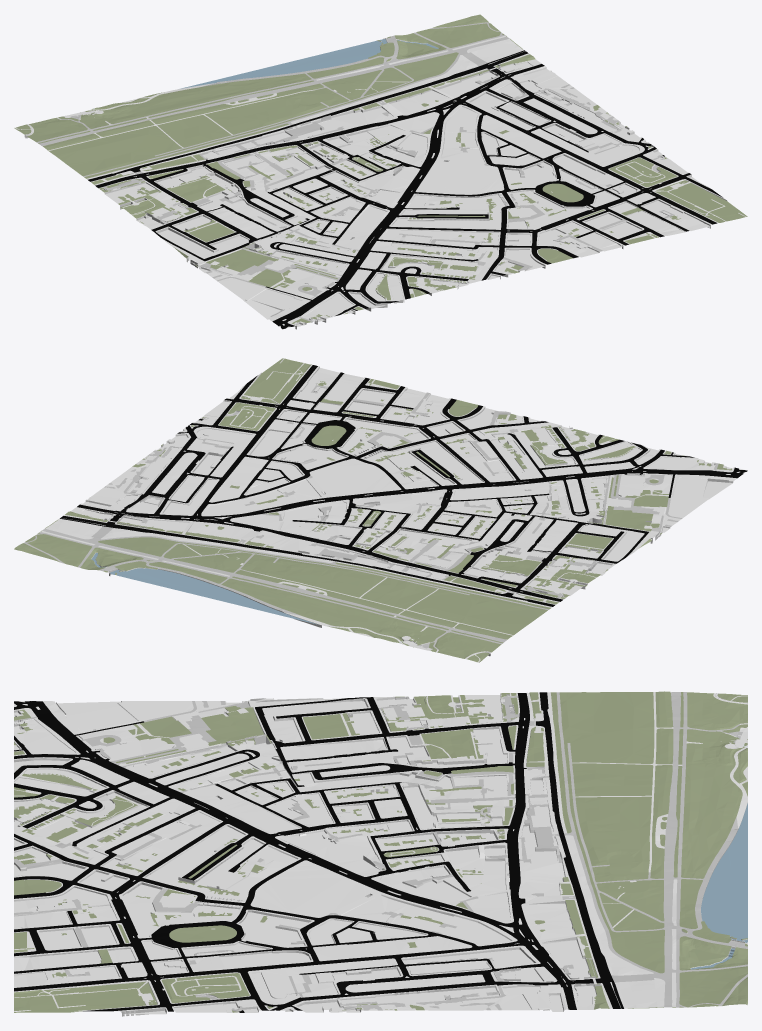
File: TQ2779_Terrain_LOD_1_draco.glb
3 renders of one model, top to bottom at view 1: azimuth 30°, elevation 25°; view 2: azimuth 150°, elevation 25°; view 3: azimuth 270°, elevation 25°, orthographic. The views are drawn at different scales.
Visible parts, largest first — view 1: TQ2779_Terrain; view 2: TQ2779_Terrain; view 3: TQ2779_Terrain.
Part boxes in pixels (<box>): TQ2779_Terrain: <box>14,14,747,329</box>; TQ2779_Terrain: <box>14,358,747,662</box>; TQ2779_Terrain: <box>14,691,747,1016</box>.
Bounding box in the file's own units: 1000 × 27.77 × 1000.
Materials: 1 (1 with a texture image).
